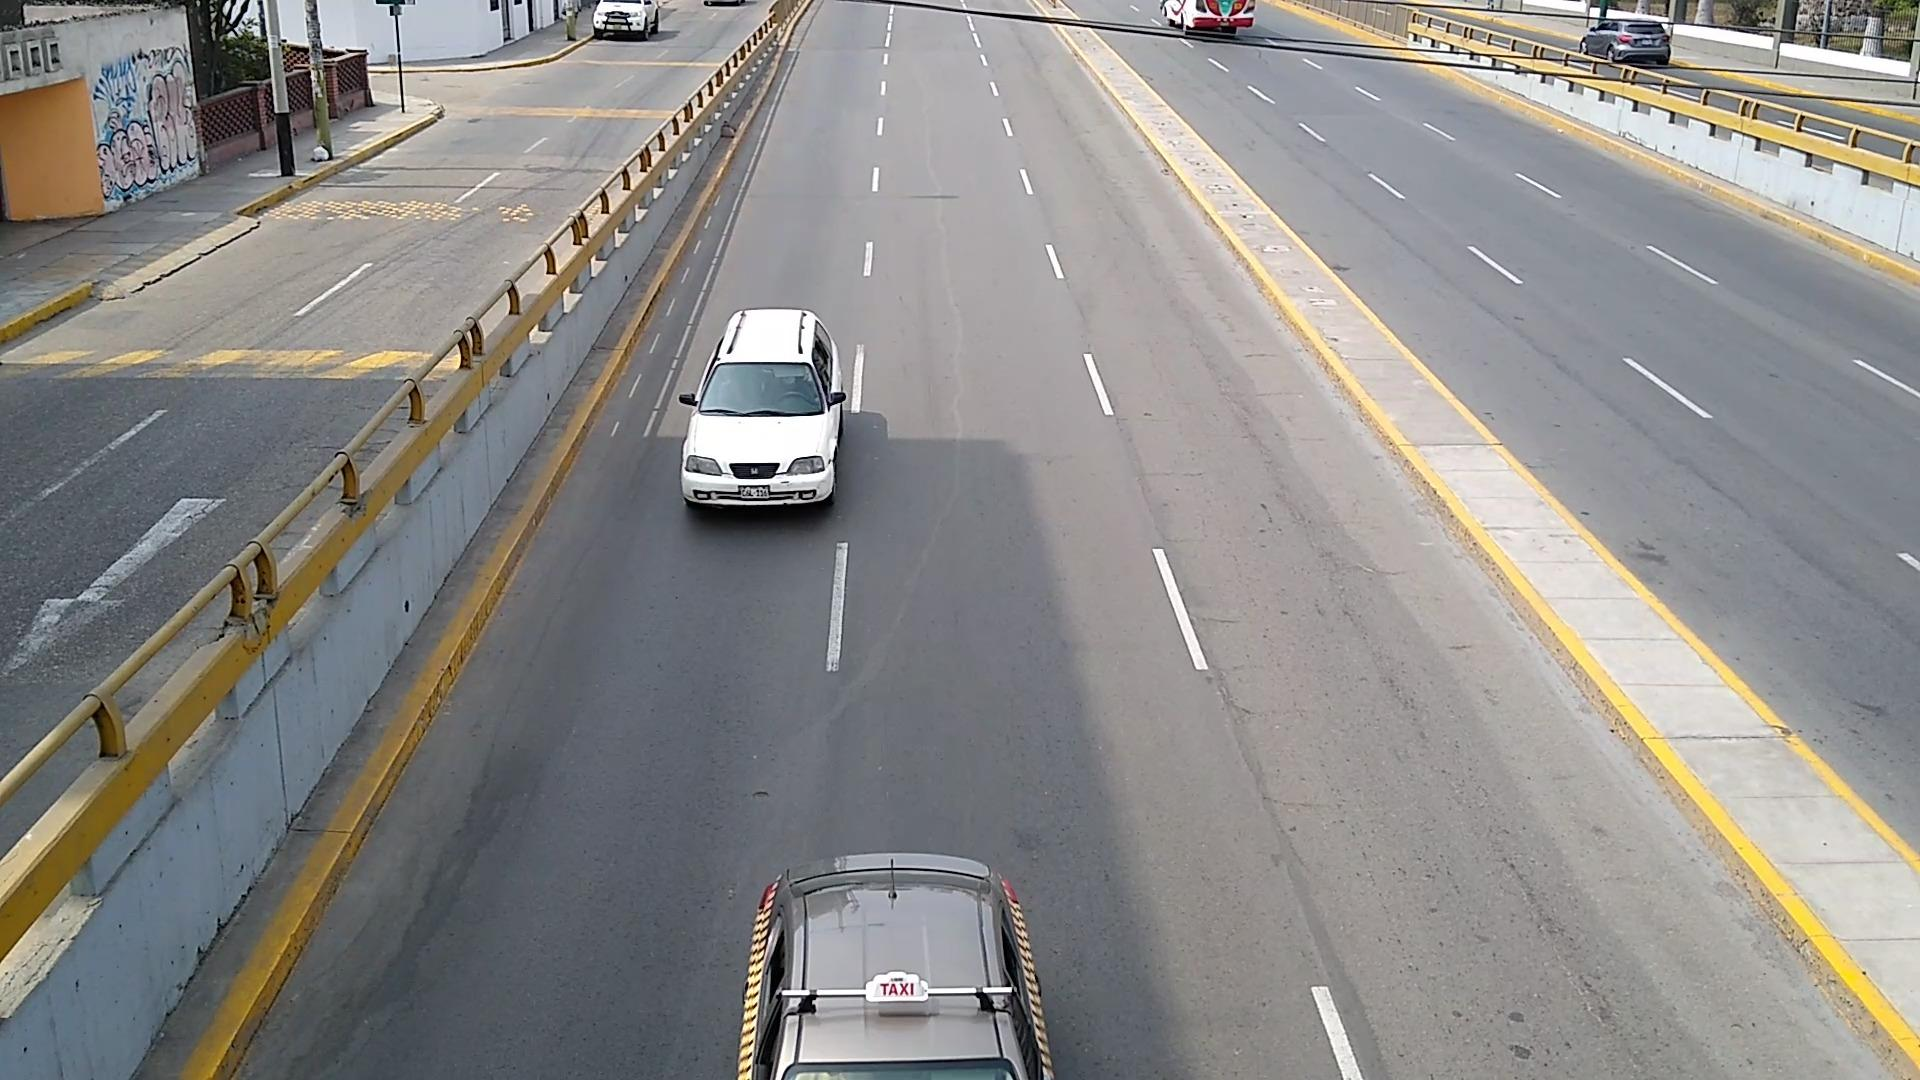car: (738, 855, 1054, 1080), (679, 307, 848, 506), (1578, 18, 1672, 63)
